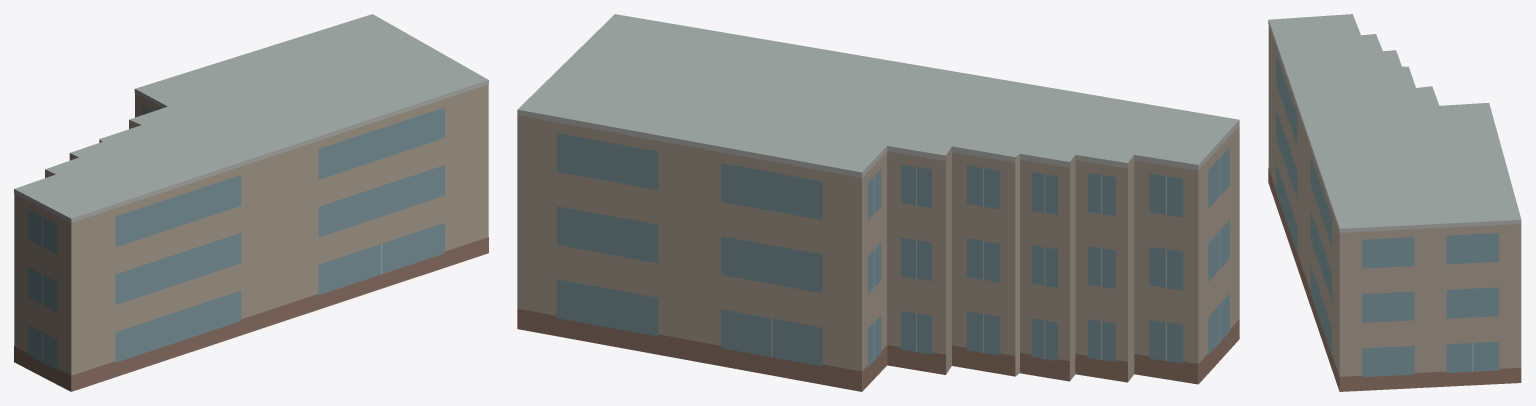
File: survey-upis-32549626.glb
3 views of the same model, side by side, from view 1: azimuth 30°, elevation 25°; view 2: azimuth 150°, elevation 25°; view 3: azimuth 270°, elevation 25° (orthographic). The views are drawn at different scales.
Visible parts, largest first — view 1: survey-upis-32549626.tmp; view 2: survey-upis-32549626.tmp; view 3: survey-upis-32549626.tmp.
Boxes of the visible parts, x1,y1,x2,y2 form: survey-upis-32549626.tmp: [14, 14, 488, 391]; survey-upis-32549626.tmp: [517, 14, 1239, 391]; survey-upis-32549626.tmp: [1268, 14, 1521, 391].
Bounding box in the file's own units: 27.42 × 9.7 × 13.65.
